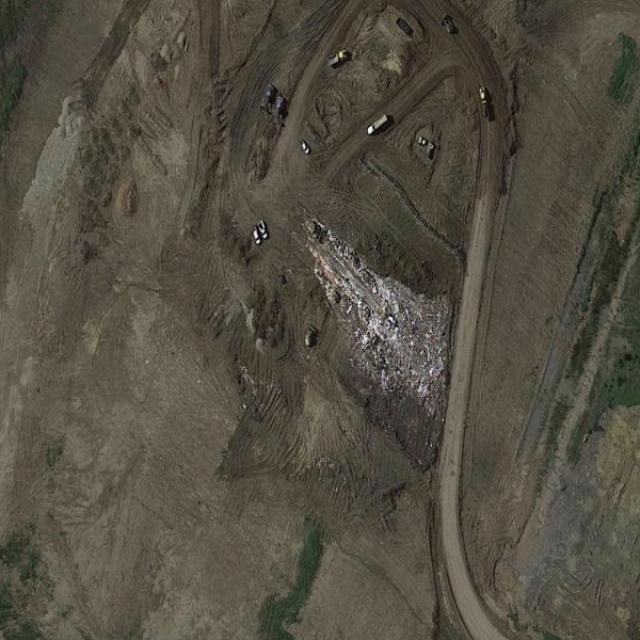dump_site: (279, 214, 474, 423)
